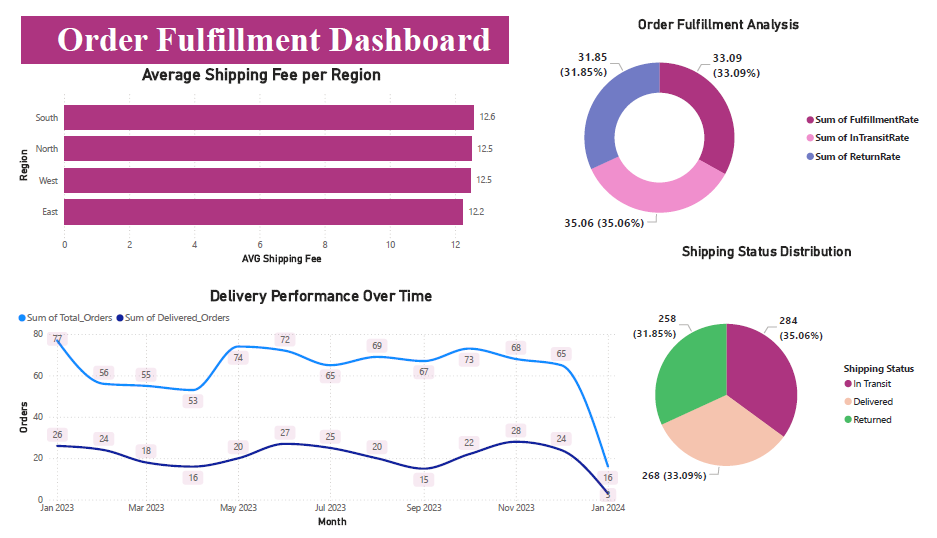

Layout of this report page (visuals, bound fields, positions):
{"tool":"powerbi","page":{"name":"OrderFulfillment","canvas":[1280,720],"ordinal":3},"visuals":[{"type":"textbox","box":[10,0,706.7,68.3],"z":0},{"type":"pieChart","title":"Shipping Status Distribution","fields":{"Category":["OF-ShippingStatusDistribution.ShippingStatus"],"Y":["Sum(OF-ShippingStatusDistribution.Order_Count)"]},"box":[826.7,318.3,453.3,401.7],"z":1000},{"type":"clusteredBarChart","title":"Average Shipping Fee per Region","fields":{"Category":["OF-AverageShippingFeeperRegion.Region"],"Y":["Sum(OF-AverageShippingFeeperRegion.Avg_Shipping_Fee)"]},"box":[0,68.3,693.3,283.3],"z":2000},{"type":"lineChart","title":"Delivery Performance Over Time","fields":{"Y":["Sum(OF-DeliveryPerformanceOverTime.Total_Orders)","Sum(OF-DeliveryPerformanceOverTime.Delivered_Orders)"],"Category":["OF-DeliveryPerformanceOverTime.Month.Variation.Date Hierarchy.Year","OF-DeliveryPerformanceOverTime.Month.Variation.Date Hierarchy.Quarter","OF-DeliveryPerformanceOverTime.Month.Variation.Date Hierarchy.Month","OF-DeliveryPerformanceOverTime.Month.Variation.Date Hierarchy.Day"]},"box":[0,378.3,860,341.7],"z":3000},{"type":"donutChart","title":"Order Fulfillment Analysis","fields":{"Y":["Sum(OF-OrderFulfillmentData.FulfillmentRate)","Sum(OF-OrderFulfillmentData.InTransitRate)","Sum(OF-OrderFulfillmentData.ReturnRate)"]},"box":[693.3,0,586.7,318.3],"z":3001}]}

Visuals, with their boxes in screenshot pixels (x1, y1, x2, y2), scaled from the page's 1280x720 canvas onto the 937x538 screenshot:
textbox: crop(7, 0, 525, 51)
"Shipping Status Distribution" pieChart: crop(605, 238, 936, 537)
"Average Shipping Fee per Region" clusteredBarChart: crop(0, 51, 508, 263)
"Delivery Performance Over Time" lineChart: crop(0, 283, 630, 537)
"Order Fulfillment Analysis" donutChart: crop(508, 0, 936, 238)
